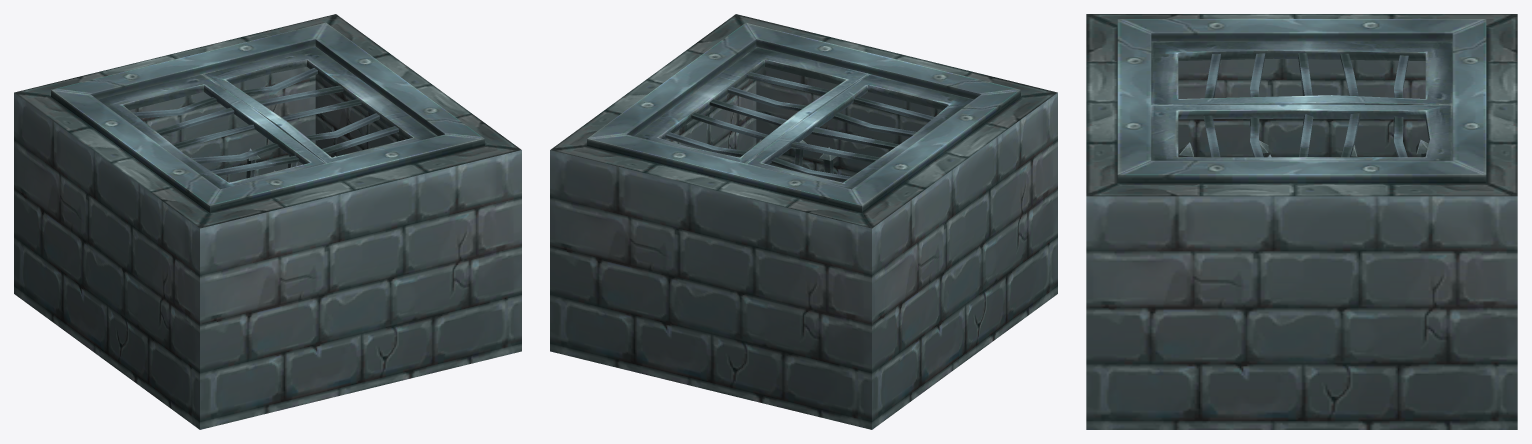
File: Trap.fbx
3 views of the same model, side by side, from view 1: azimuth 30°, elevation 25°; view 2: azimuth 150°, elevation 25°; view 3: azimuth 270°, elevation 25° (orthographic). The views are drawn at different scales.
Parts seen in each view (by area): view 1: Trap; view 2: Trap; view 3: Trap.
Boxes of the visible parts, left/top/right/bottom form: Trap: left=14, top=14, right=521, bottom=429; Trap: left=550, top=14, right=1057, bottom=429; Trap: left=1086, top=14, right=1517, bottom=429.
Bounding box in the file's own units: 0.7241 × 0.4666 × 0.7241.
